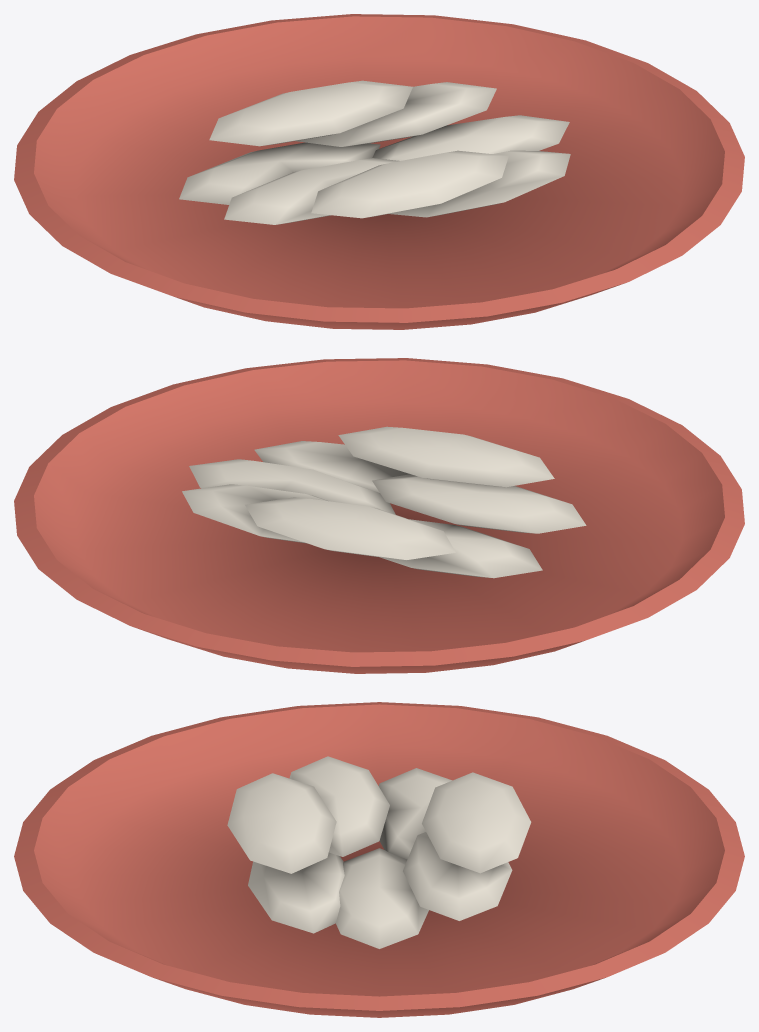
Rendered from dish_salad.glb.
3 views of the same model, one above another, from view 1: azimuth 30°, elevation 25°; view 2: azimuth 150°, elevation 25°; view 3: azimuth 270°, elevation 25° (orthographic).
Visible parts, largest first — view 1: PART; view 2: PART; view 3: PART.
Boxes of the visible parts, x1,y1,x2,y2 form: PART: (14, 14, 744, 329); PART: (14, 358, 744, 673); PART: (14, 702, 744, 1017).
Bounding box in the file's own units: 0.22 × 0.0316 × 0.22.
